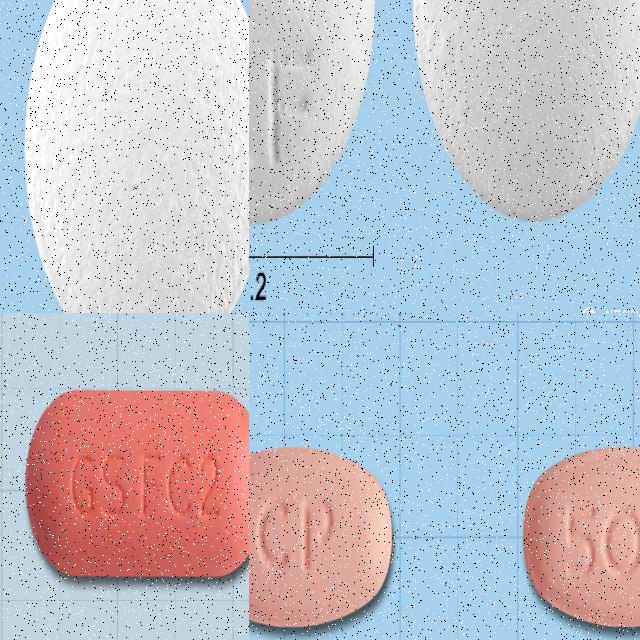Kivexa: (24, 389, 249, 578)
Levobay: (23, 0, 249, 313)
Levoflcin: (412, 0, 640, 222), (249, 0, 377, 226)
Refloxin Tab- -For Export-: (249, 445, 392, 629), (523, 445, 640, 628)
